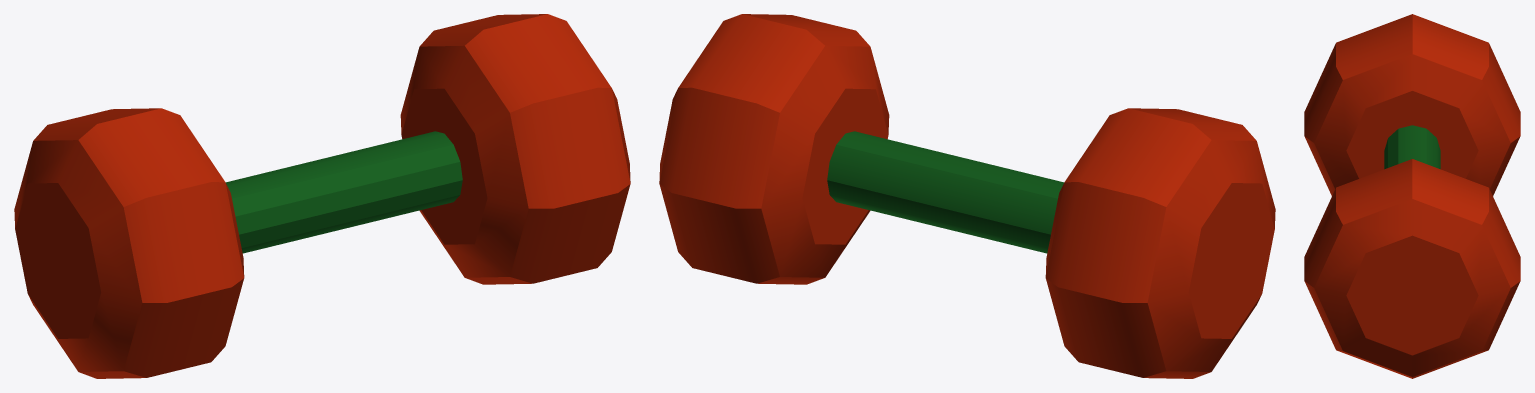
Rendered from Dumbbell-2.FBX.
3 views of the same model, side by side, from view 1: azimuth 30°, elevation 25°; view 2: azimuth 150°, elevation 25°; view 3: azimuth 270°, elevation 25° (orthographic). The views are drawn at different scales.
Visible parts, largest first — view 1: Dumbbell-2; view 2: Dumbbell-2; view 3: Dumbbell-2.
Part boxes in pixels (<box>): Dumbbell-2: <box>14,14,630,378</box>; Dumbbell-2: <box>659,14,1275,378</box>; Dumbbell-2: <box>1304,14,1520,378</box>.
Size of the model in its own units: 1000 by 461 by 461.
